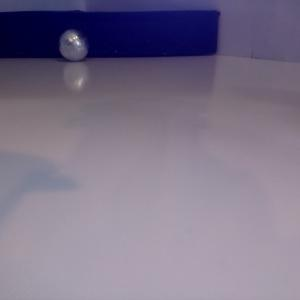zone: (1, 10, 219, 59)
